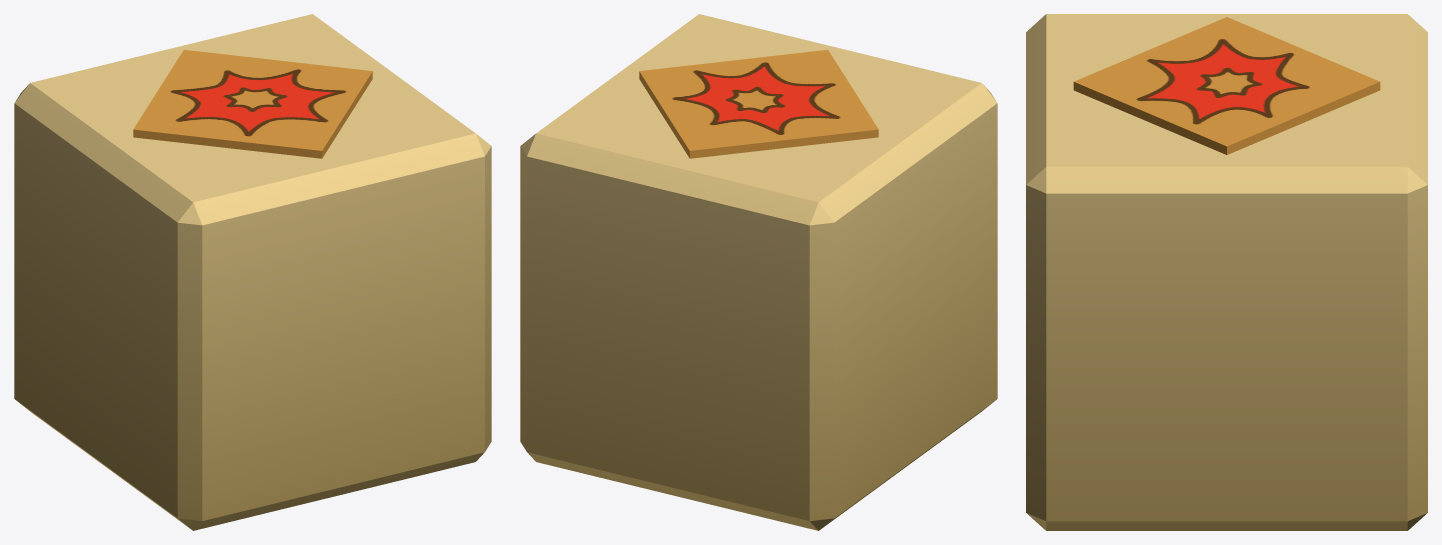
Rendered from Tile_Danger_White_01.fbx.
The picture shows the model from 3 angles, left to right: view 1: azimuth 30°, elevation 25°; view 2: azimuth 150°, elevation 25°; view 3: azimuth 270°, elevation 25°; orthographic projection. The views are drawn at different scales.
Parts seen in each view (by area): view 1: Tile Putih Plate Speed.006; view 2: Tile Putih Plate Speed.006; view 3: Tile Putih Plate Speed.006.
Boxes of the visible parts, x1,y1,x2,y2 form: Tile Putih Plate Speed.006: [14, 14, 491, 530]; Tile Putih Plate Speed.006: [520, 14, 997, 530]; Tile Putih Plate Speed.006: [1026, 14, 1427, 530].
Bounding box in the file's own units: 1 × 1.02 × 1.
Materials: 1 (1 with a texture image).
